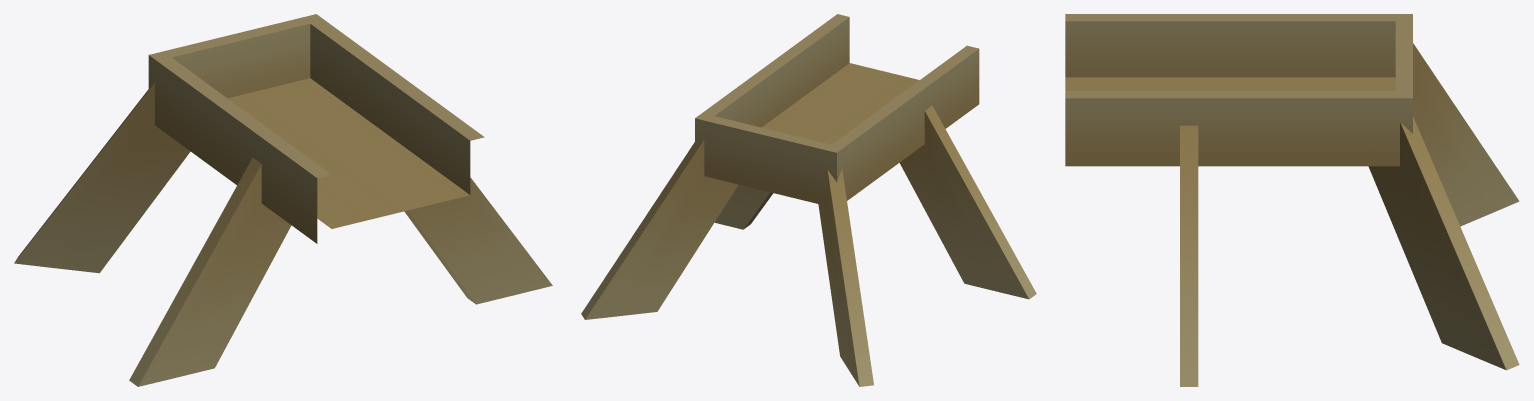
File: aquaduct1.glb
3 renders of one model, left to right at view 1: azimuth 30°, elevation 25°; view 2: azimuth 150°, elevation 25°; view 3: azimuth 270°, elevation 25°, orthographic. The views are drawn at different scales.
Visible parts, largest first — view 1: Aquaduct1; view 2: Aquaduct1; view 3: Aquaduct1.
Boxes of the visible parts, x1=… form: Aquaduct1: x1=14, y1=14, x2=552, y2=386; Aquaduct1: x1=581, y1=14, x2=1036, y2=386; Aquaduct1: x1=1065, y1=14, x2=1519, y2=386.
Bounding box in the file's own units: 2 × 1.01 × 1.83.
Materials: 1 (1 with a texture image).
